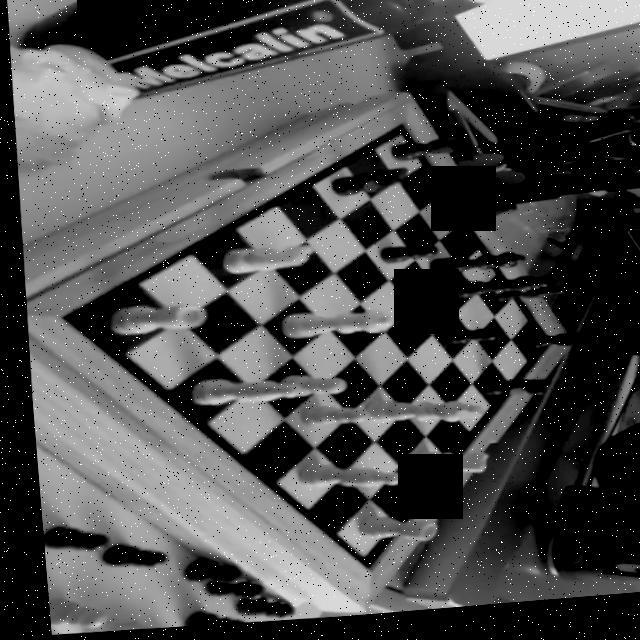chess-table-corners: (44, 304, 82, 328), (386, 120, 418, 139), (348, 564, 377, 582)
